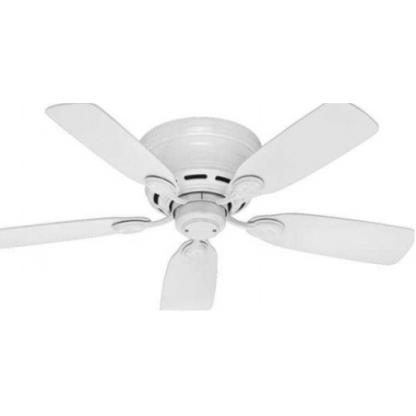ceiling-fan: (0, 103, 415, 311)
